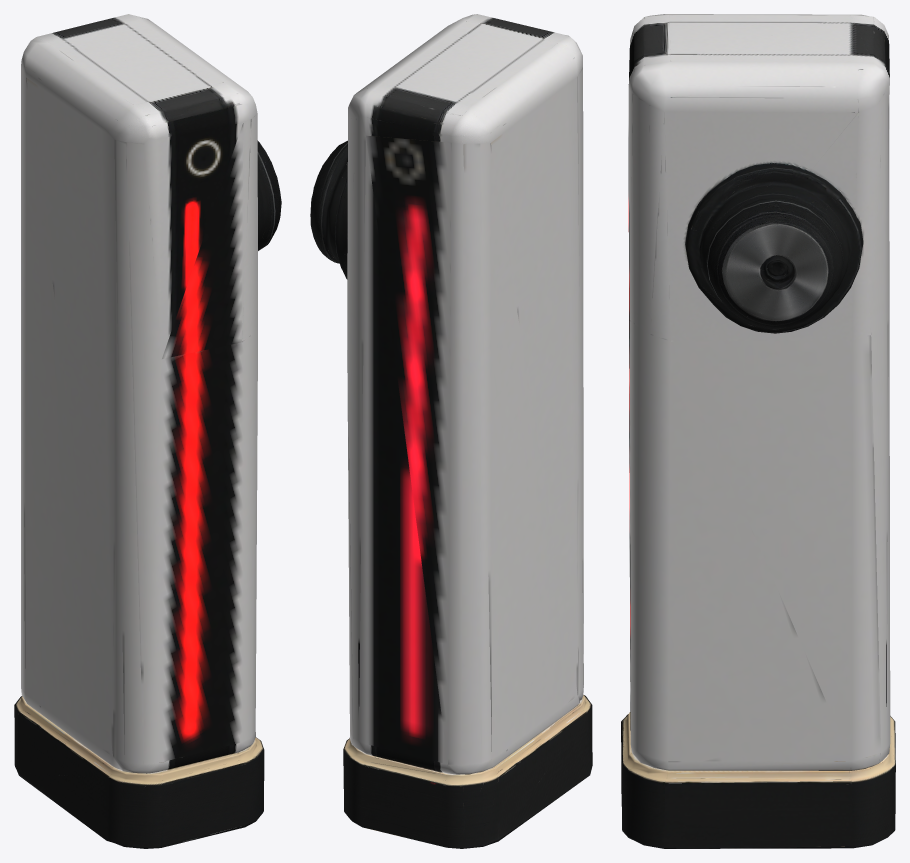
File: barrier_housing.glb
The picture shows the model from 3 angles, left to right: view 1: azimuth 30°, elevation 25°; view 2: azimuth 150°, elevation 25°; view 3: azimuth 270°, elevation 25°; orthographic projection. The views are drawn at different scales.
Visible parts, largest first — view 1: Mesh_0; view 2: Mesh_0; view 3: Mesh_0.
Part boxes in pixels (x1,y1,x2,y2): Mesh_0: [14, 14, 281, 848]; Mesh_0: [310, 14, 592, 848]; Mesh_0: [621, 14, 895, 848].
Size of the model in its own units: 0.3256 by 1.1 by 0.3557.
1 material, 1 textured.
